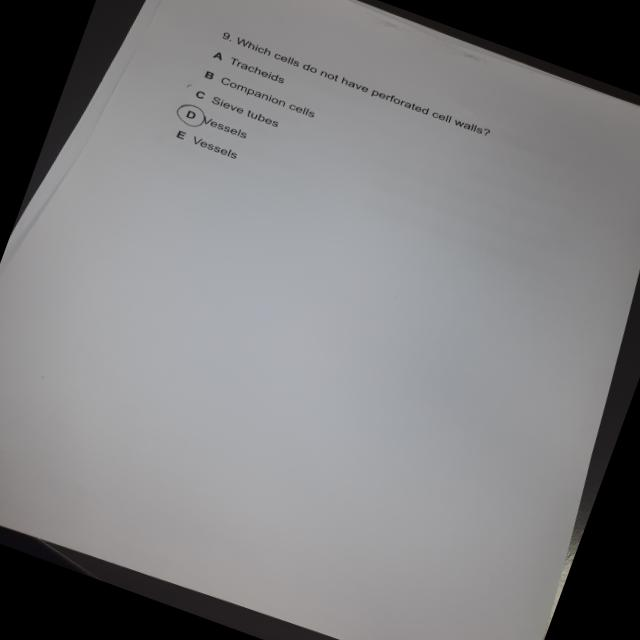D: (170, 98, 212, 132)
